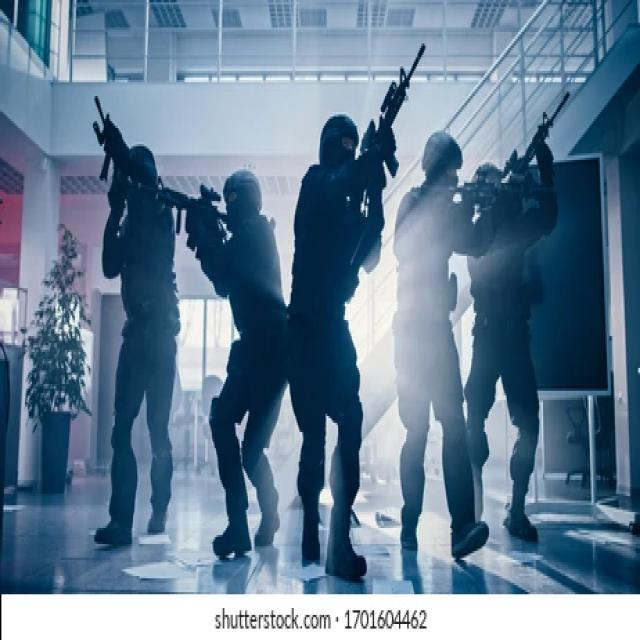soldier: (292, 98, 389, 591), (182, 142, 293, 570), (477, 80, 575, 539), (396, 87, 484, 574), (86, 90, 174, 546)
